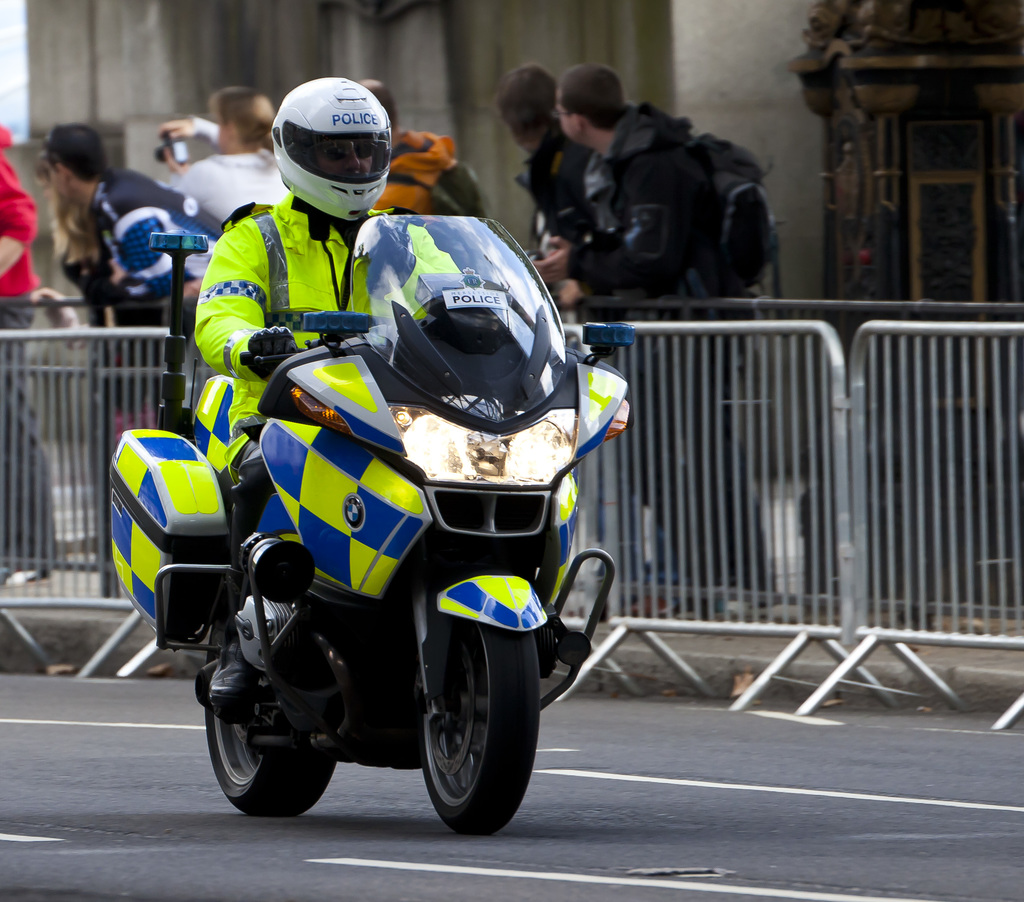Person: (0, 63, 782, 702)
